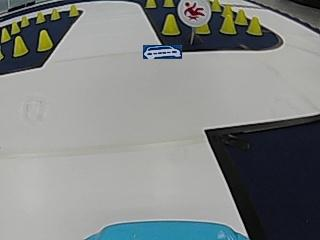cone: (219, 10, 235, 35), (162, 14, 179, 35), (247, 15, 262, 36), (37, 30, 51, 51), (13, 36, 27, 56), (235, 8, 247, 25), (0, 28, 10, 43), (50, 7, 60, 21), (68, 4, 78, 17), (36, 11, 45, 24), (21, 15, 30, 27), (11, 22, 19, 34), (145, 0, 156, 8)
tumble: (180, 0, 211, 24)
